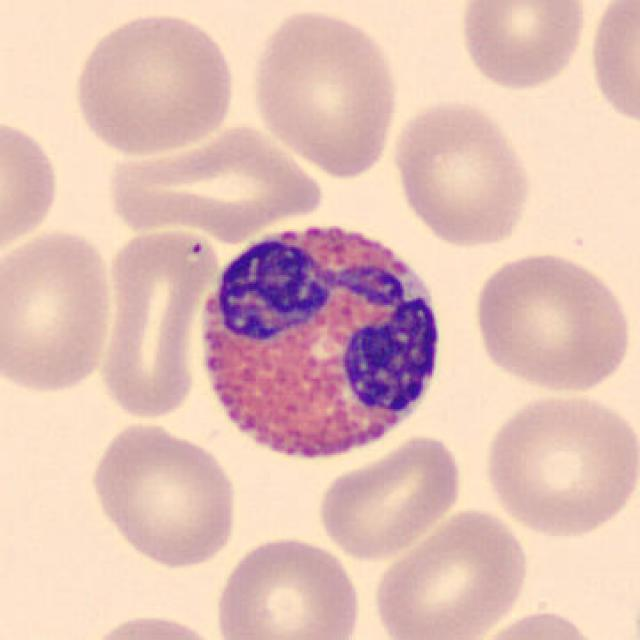Eosinophil: (187, 205, 453, 480)
RBC: (101, 118, 329, 243), (246, 3, 404, 180), (68, 7, 240, 159), (468, 247, 634, 397), (94, 226, 220, 423), (478, 386, 638, 541), (85, 418, 242, 571), (388, 96, 535, 250), (369, 504, 532, 638), (0, 225, 119, 398), (313, 430, 467, 562), (212, 532, 364, 640), (453, 0, 591, 93), (0, 109, 64, 259), (584, 0, 638, 130), (467, 606, 608, 640), (78, 610, 228, 640)
